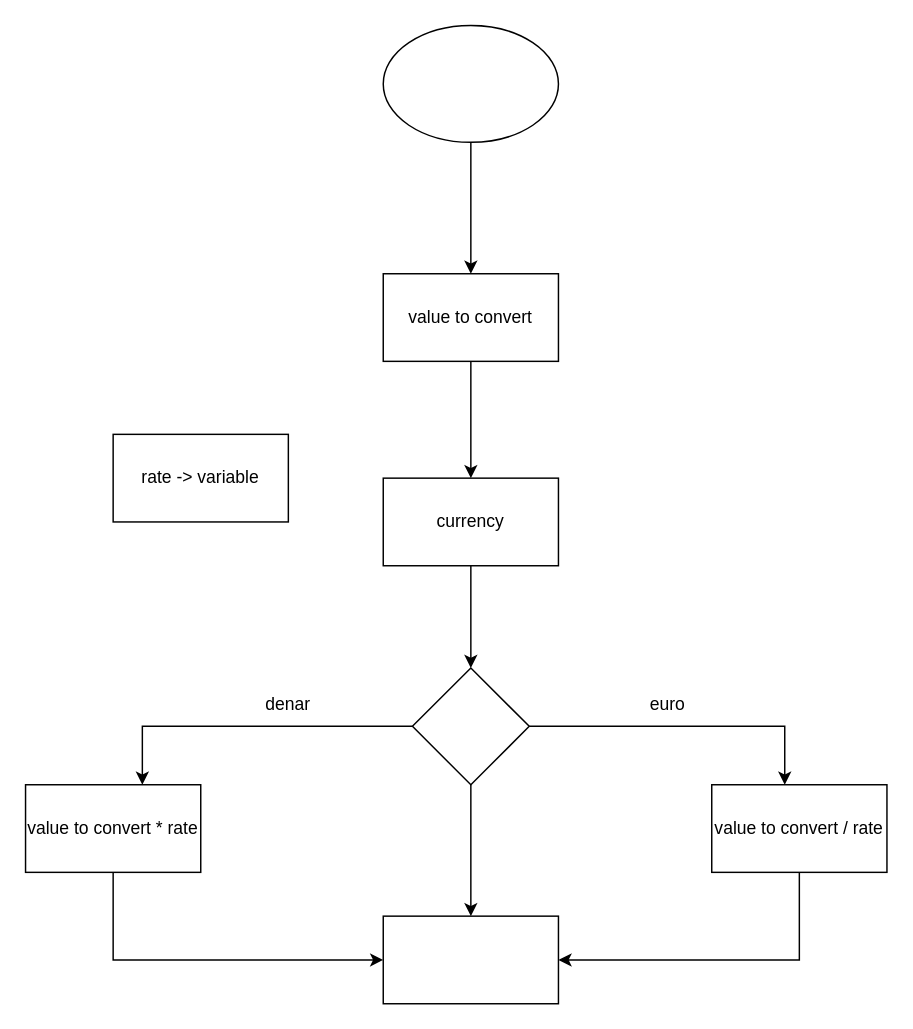
Image size: 913x1029. Some labels were removed from this diagram. The centre of each missing label's shape, as x and y in pixels:
end: the point at 470,959
if currency = eur or den: the point at 470,725
start: the point at 470,83
